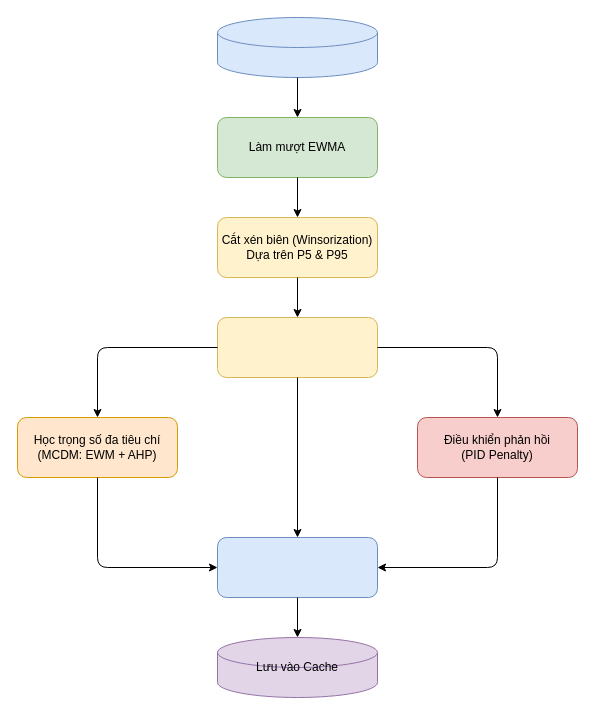
Image size: 595x715. Some labels were removed from this diagram. The box of each missing label's shape, as (x1, y1, x2, y2) in pixels:
Chuẩn hóa Log-Linear về [0, 1]: (216, 316, 378, 378)
Dữ liệu thô (Latency, CPU, Queue): (216, 16, 378, 78)
Tính Base Score: (216, 536, 378, 598)
